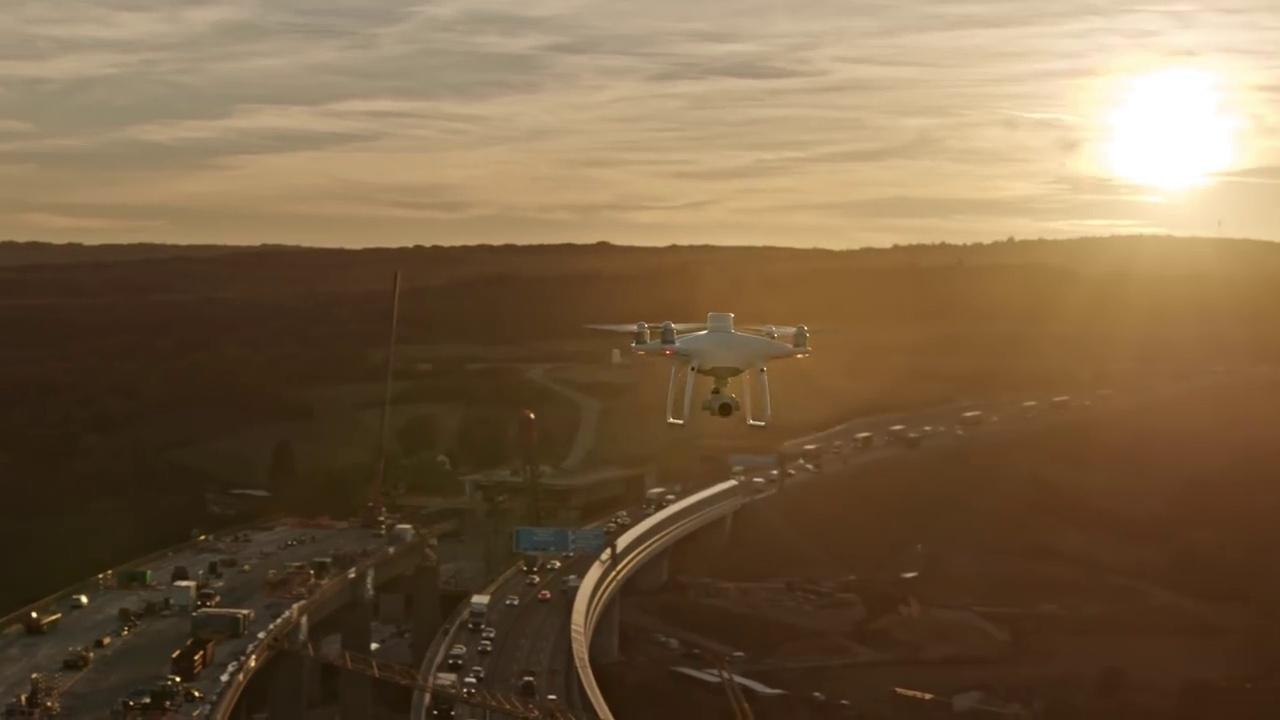drone: (580, 305, 828, 430)
